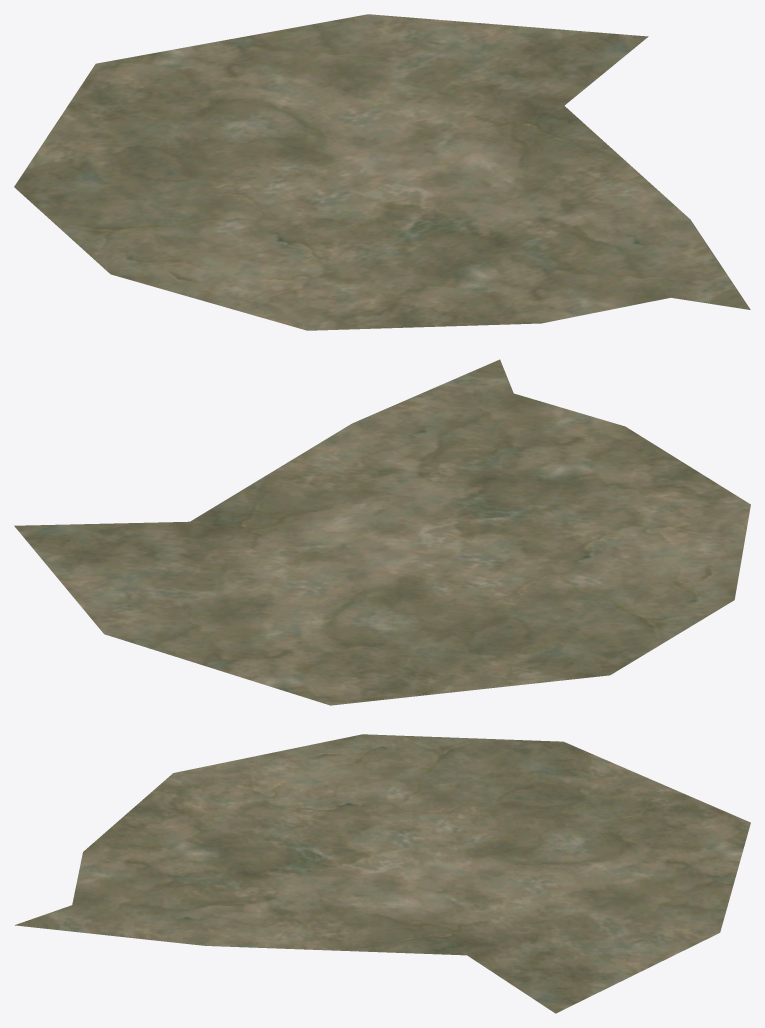
The model's file is OVERHILL_A_01_LINE59.fbx.
The picture shows the model from 3 angles, top to bottom: view 1: azimuth 30°, elevation 25°; view 2: azimuth 150°, elevation 25°; view 3: azimuth 270°, elevation 25°; orthographic projection. The views are drawn at different scales.
Visible parts, largest first — view 1: OVERHILL_A_01_LINE59; view 2: OVERHILL_A_01_LINE59; view 3: OVERHILL_A_01_LINE59.
Boxes of the visible parts, <box> form: OVERHILL_A_01_LINE59: <box>14,14,750,330</box>; OVERHILL_A_01_LINE59: <box>14,359,750,705</box>; OVERHILL_A_01_LINE59: <box>15,734,750,1013</box>.
Bounding box in the file's own units: 24498 × 10.74 × 27307.
Materials: 1 (1 with a texture image).
